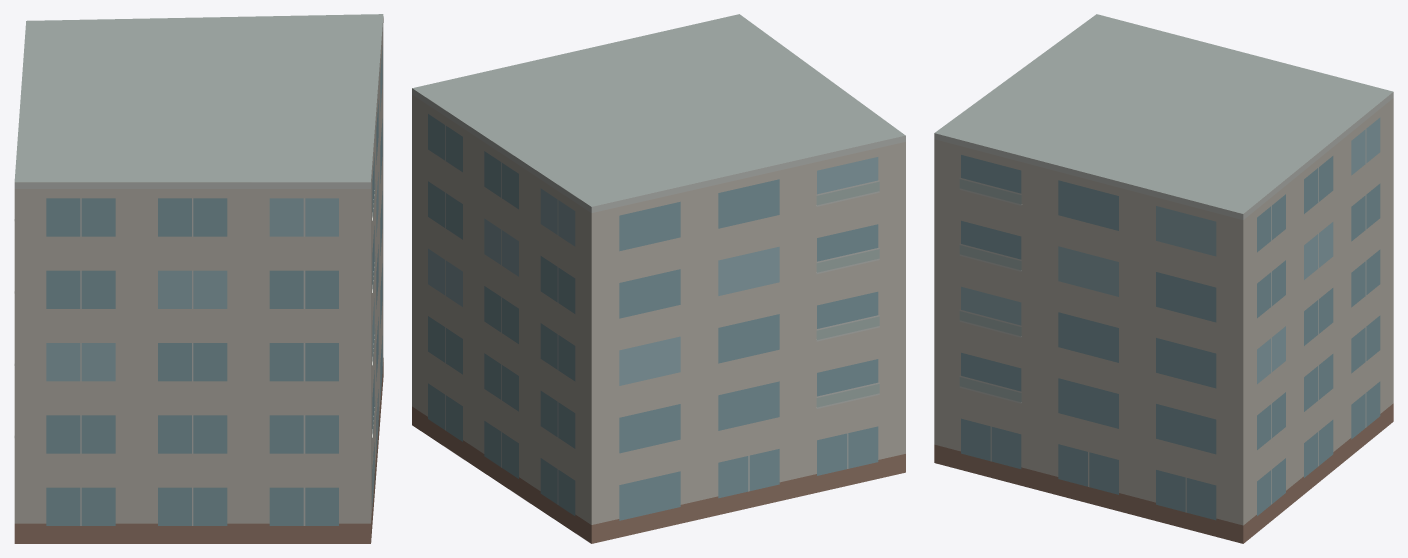
The model's file is survey-upis-32778357.glb.
The picture shows the model from 3 angles, left to right: view 1: azimuth 30°, elevation 25°; view 2: azimuth 150°, elevation 25°; view 3: azimuth 270°, elevation 25°; orthographic projection. The views are drawn at different scales.
Visible parts, largest first — view 1: survey-upis-32778357.tmp; view 2: survey-upis-32778357.tmp; view 3: survey-upis-32778357.tmp.
Boxes of the visible parts, left/top/right/bottom form: survey-upis-32778357.tmp: left=14, top=14, right=383, bottom=543; survey-upis-32778357.tmp: left=412, top=14, right=905, bottom=543; survey-upis-32778357.tmp: left=934, top=14, right=1393, bottom=543.
Size of the model in its own units: 17.18 by 13.2 by 16.67.
